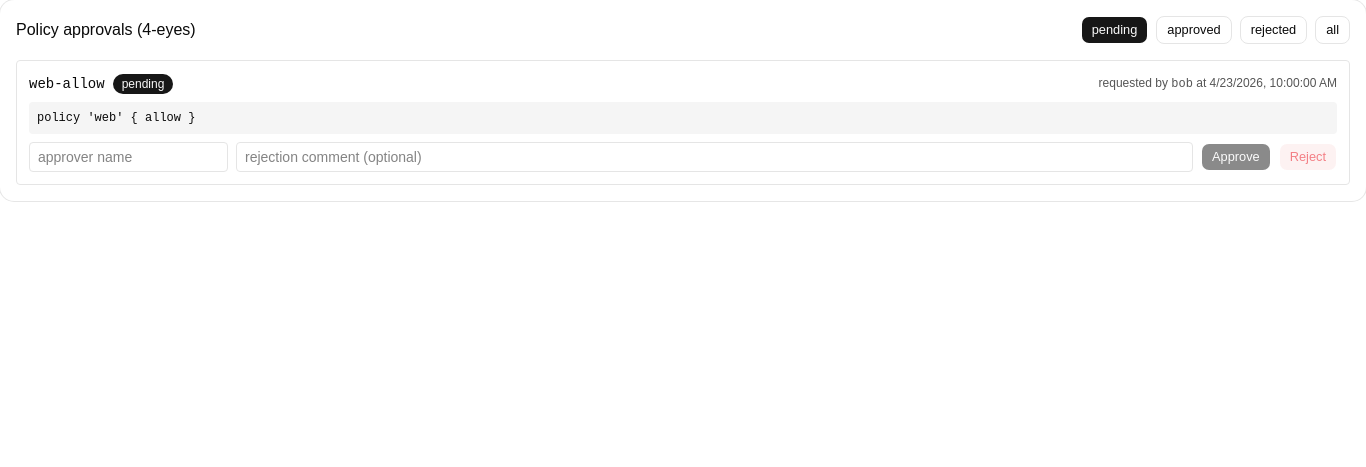
Test: ApprovalsPage › switches the status filter via the filter buttons
The width and height of the screenshot is (1366, 467).
Expected: the text "web-allow" is shown, x1=29 y1=76 x2=105 y2=92
Click the button "approved" at (1194,30), box x1=1156 y1=16 x2=1232 y2=44
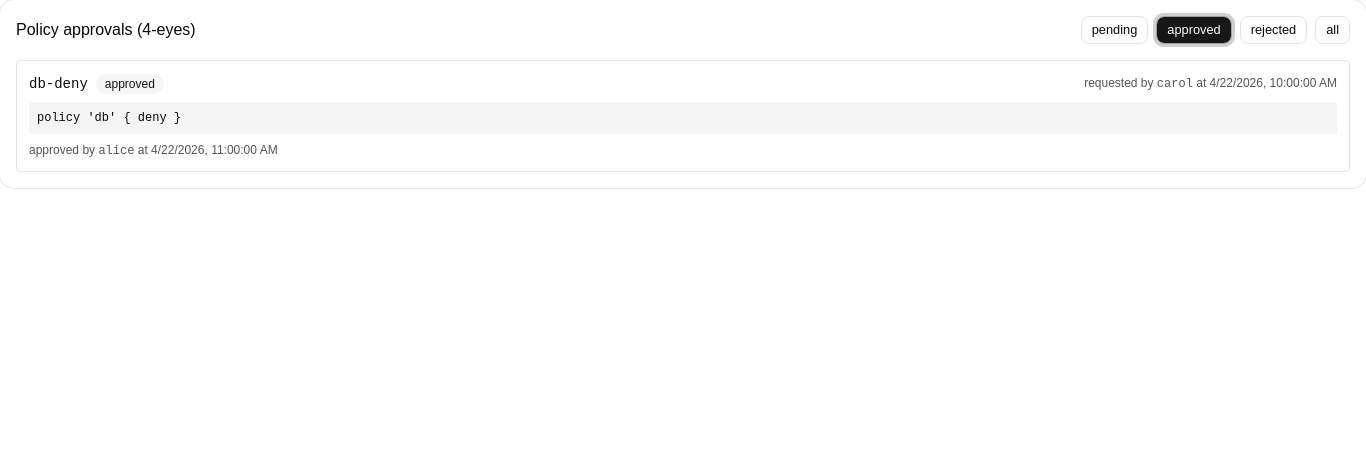
Result: the text "db-deny" is shown at x1=29 y1=76 x2=88 y2=92
Click the button "rejected" at (1273,30), box x1=1240 y1=16 x2=1307 y2=44
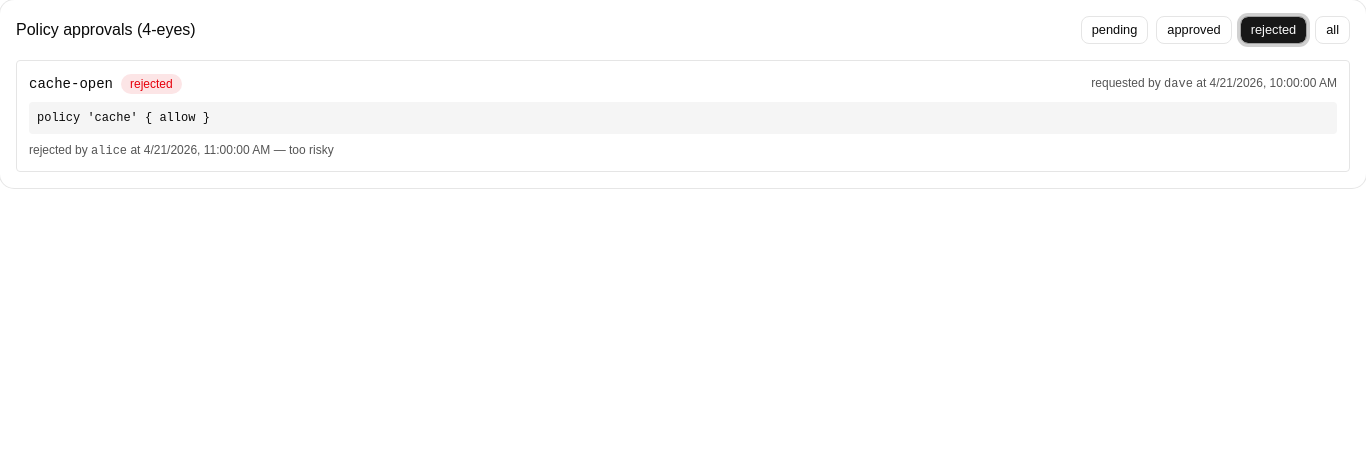
Result: the text "cache-open" is shown at x1=29 y1=76 x2=113 y2=92
Click the button "all" at (1333,30), box x1=1315 y1=16 x2=1350 y2=44
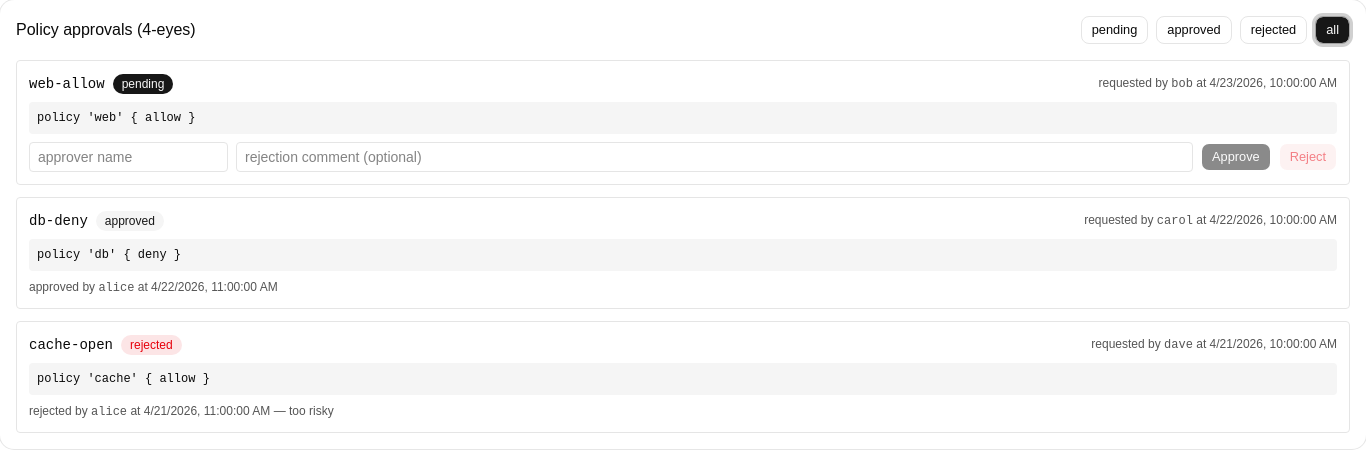
Result: the text "web-allow" is shown at x1=29 y1=76 x2=105 y2=92
